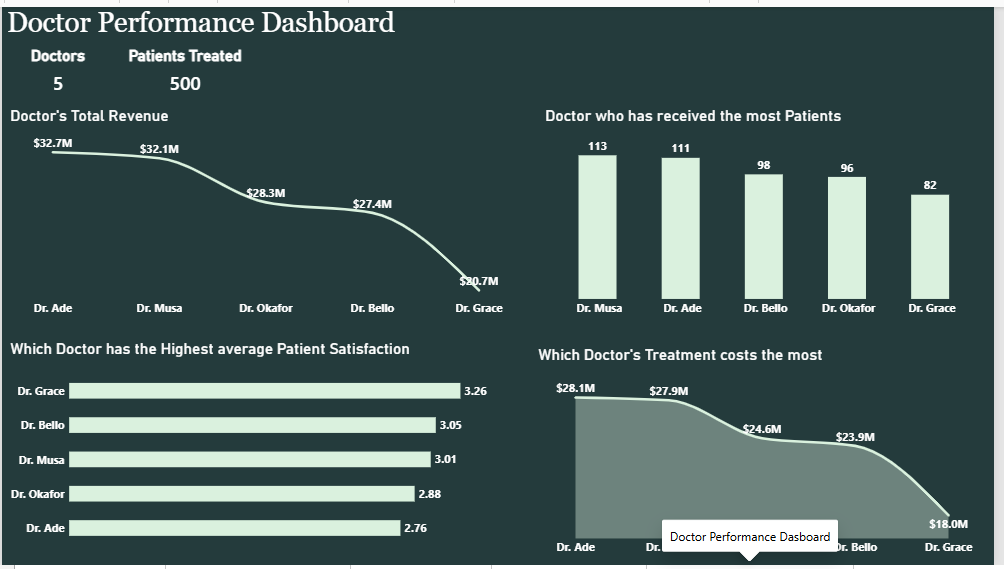

Layout of this report page (visuals, bound fields, positions):
{"tool":"powerbi","page":{"name":"Doctor Performance Dasboard","canvas":[1920,1080],"ordinal":4},"visuals":[{"type":"textbox","box":[10,0,766.7,65],"z":0},{"type":"cardVisual","title":"Doctors","fields":{"Data":["HealthcareData.Total Doctors"]},"box":[0,78.3,216.7,86.7],"z":1000},{"type":"cardVisual","title":"Patients Treated","fields":{"Data":["CountNonNull(HealthcareData.Patient_Name)"]},"box":[230,78.3,248.3,86.7],"z":2000},{"type":"lineChart","title":"Doctor''s Total Revenue","fields":{"Category":["HealthcareData.Doctor_Name"],"Y":["Sum(HealthcareData.Revenue)"]},"box":[0,178.3,1021.7,440],"z":3000},{"type":"columnChart","title":"Doctor who has received the most Patients","fields":{"Category":["HealthcareData.Doctor_Name"],"Y":["CountNonNull(HealthcareData.Patient_ID)"]},"box":[1035,178.3,885,440],"z":4000},{"type":"clusteredBarChart","title":"Which Doctor has the Highest average Patient Satisfaction","fields":{"Category":["HealthcareData.Doctor_Name"],"Y":["HealthcareData.AVG Patient Satsifaction"]},"box":[0,628.3,960,440],"z":5000},{"type":"areaChart","title":"Which Doctor''s Treatment costs the most","fields":{"Category":["HealthcareData.Doctor_Name"],"Y":["Sum(HealthcareData.Treatment_Cost)"]},"box":[1021.7,640,898.3,440],"z":6000}]}

Visuals, with their boxes in screenshot pixels (x1, y1, x2, y2), scaled from the page's 1920x1080 canvas onto the 1004x569 screenshot:
textbox: [5,0,406,34]
"Doctors" cardVisual: [0,41,113,87]
"Patients Treated" cardVisual: [120,41,250,87]
"Doctor''s Total Revenue" lineChart: [0,94,534,326]
"Doctor who has received the most Patients" columnChart: [541,94,1003,326]
"Which Doctor has the Highest average Patient Satisfaction" clusteredBarChart: [0,331,502,563]
"Which Doctor''s Treatment costs the most" areaChart: [534,337,1003,568]
